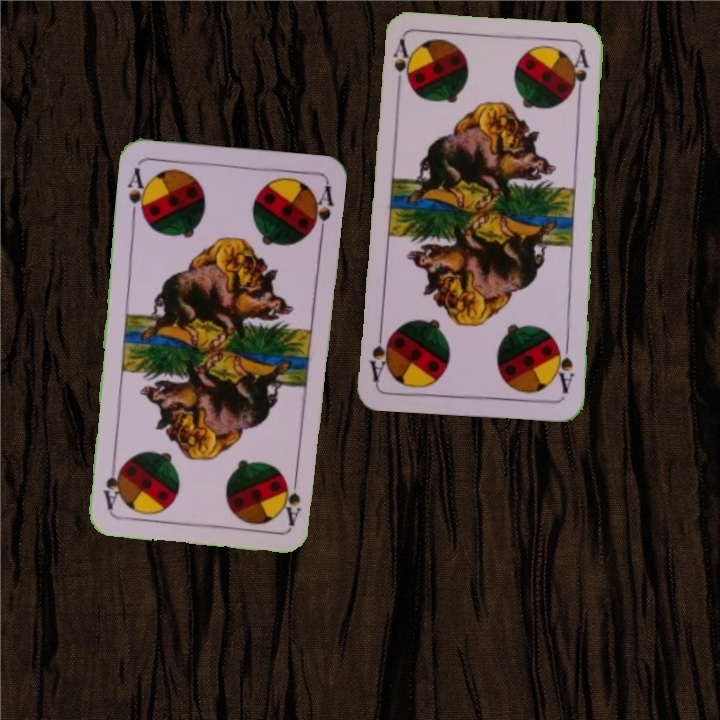SA: (123, 163, 151, 222), (550, 336, 577, 396), (279, 469, 304, 528), (388, 36, 412, 95)
